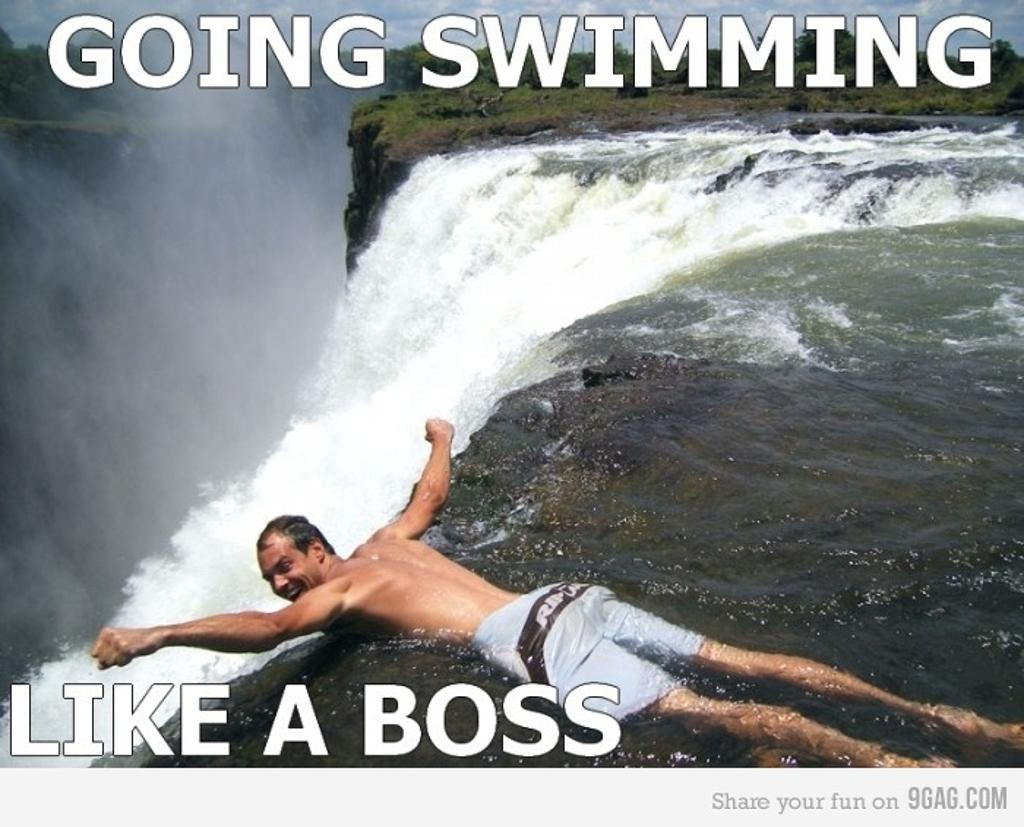face: (260, 538, 320, 606)
